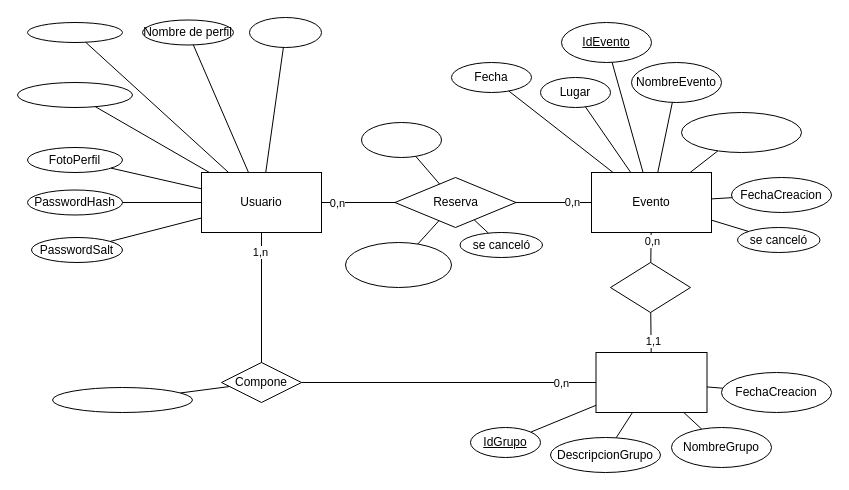
This 849x490 diagram has some shape labels left out. The centre of each missing label's shape, as x and y in pixels:
"Descripcion" belongs at [74,32].
"DescripcionEvento" belongs at [741,132].
"Fecha y hora de prenotación" belongs at [398,265].
"FechaR egistracion" belongs at [74,95].
"Grupo organizador" belongs at [651,382].
"HashReserva" belongs at [401,140].
"IdUsuario" belongs at [285,32].
"Organiza" belongs at [650,287].
"PermisosDeMiembro" belongs at [122,399].
